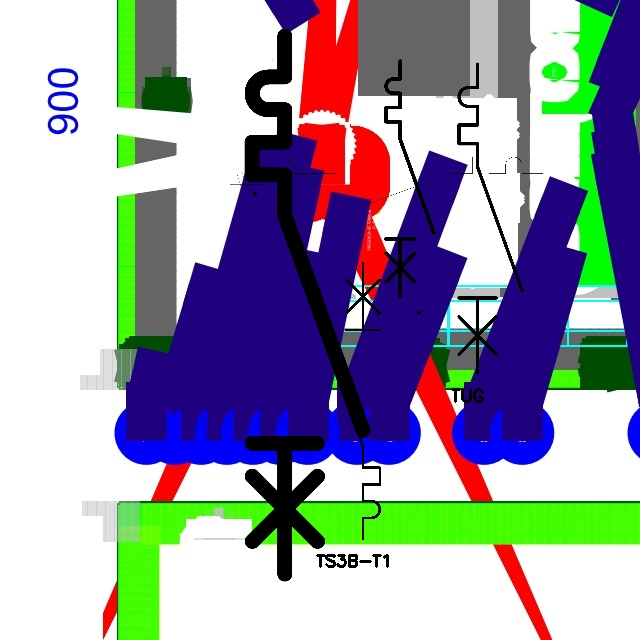interruptor_termomagnetico: (238, 22, 376, 588), (451, 56, 530, 380), (316, 256, 387, 546), (262, 150, 549, 220), (380, 55, 440, 302)
